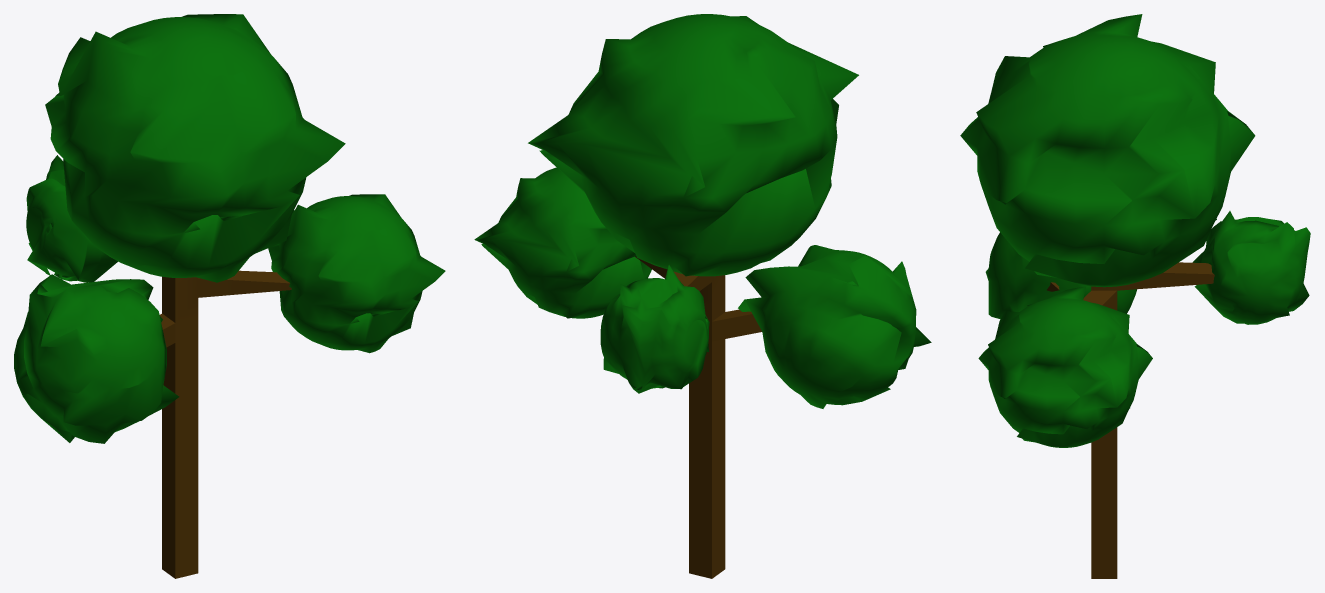
The model's file is tree.fbx.
3 renders of one model, left to right at view 1: azimuth 30°, elevation 25°; view 2: azimuth 150°, elevation 25°; view 3: azimuth 270°, elevation 25°, orthographic. The views are drawn at different scales.
Visible parts, largest first — view 1: pSphere8; view 2: pSphere8; view 3: pSphere8.
Part boxes in pixels (x1,y1,x2,y2): pSphere8: (14, 14, 445, 578); pSphere8: (474, 14, 931, 578); pSphere8: (960, 14, 1310, 578).
Size of the model in its own units: 17.94 by 22.63 by 13.58.
